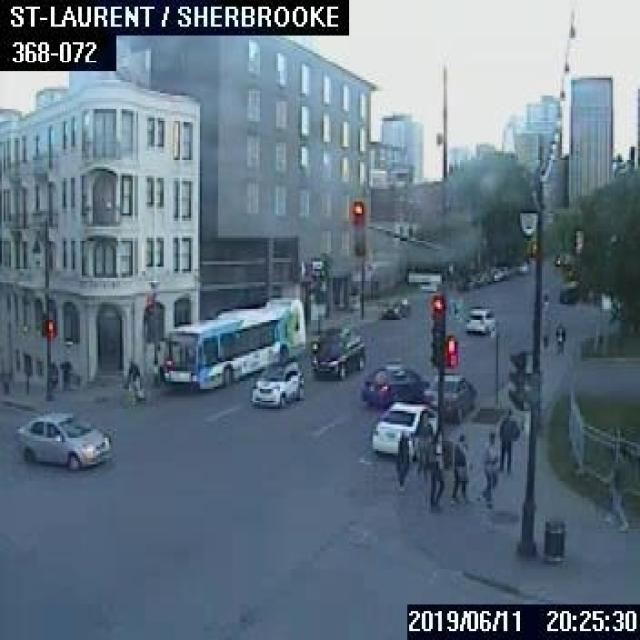bus: (158, 296, 303, 389)
pedestrian: (414, 416, 442, 504), (449, 431, 470, 504), (608, 453, 628, 529), (496, 406, 518, 472), (479, 430, 496, 507), (125, 353, 138, 402), (395, 431, 407, 480), (554, 320, 564, 351)
vehicle: (13, 409, 111, 467), (371, 400, 436, 456), (361, 360, 426, 402), (423, 371, 475, 419), (250, 357, 302, 405), (309, 331, 363, 376), (310, 324, 348, 350), (464, 307, 494, 333), (380, 298, 407, 318), (558, 278, 576, 302), (460, 269, 479, 289), (478, 265, 494, 282), (512, 259, 526, 273), (489, 265, 502, 280), (498, 264, 508, 277)
